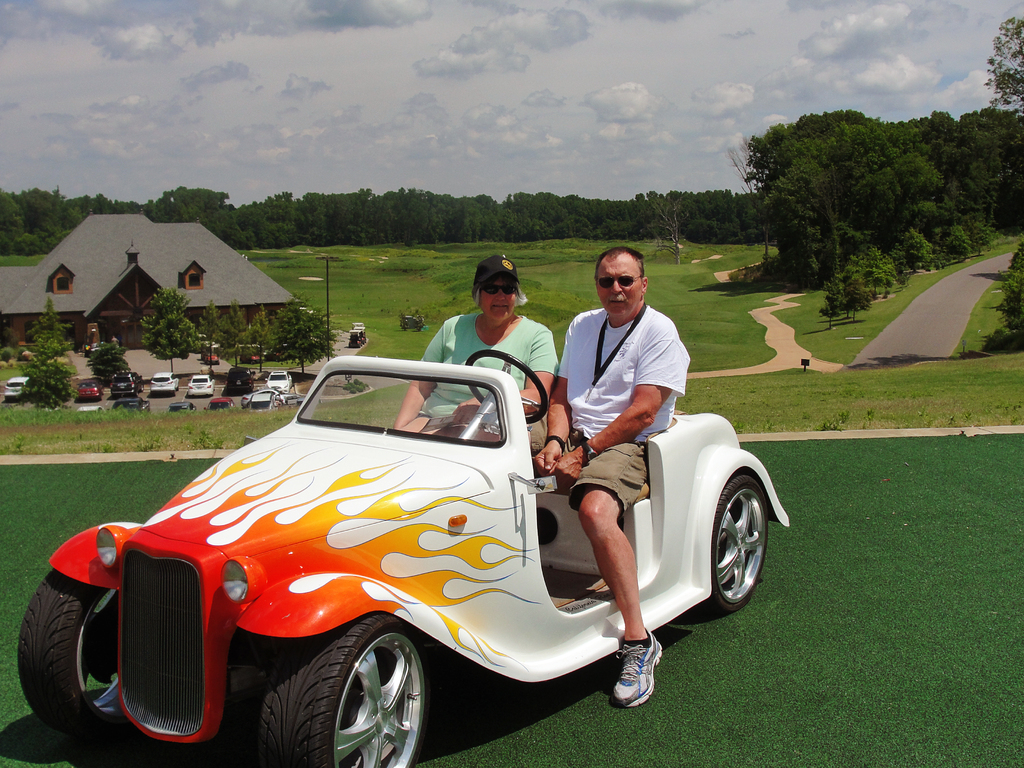Car: (16, 351, 793, 767)
